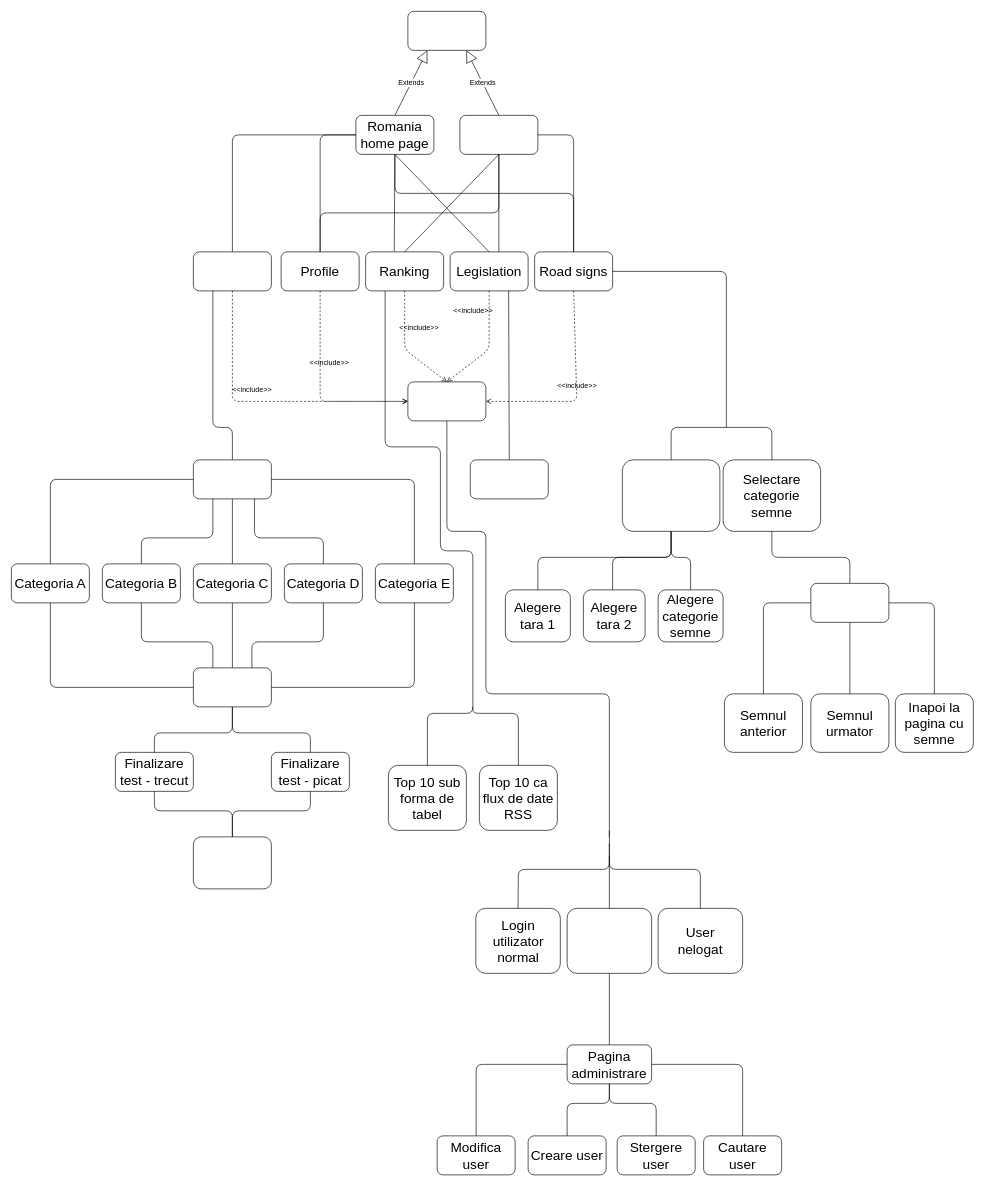
Image size: 985x1186. Some labels were removed from this diagram. Each missing label, with the centre of its shape:
Compara tari dupa semne de circulatie: pixel 671 495
Descarca testul in format CSV: pixel 232 862
England home page: pixel 498 134
Home page: pixel 446 30
Login: pixel 446 401
Login administrator: pixel 609 940
Selectare capitol: pixel 509 479
Selectare categorie: pixel 232 479
Test page: pixel 232 687
Tests: pixel 232 271
Vizualizare semn: pixel 849 602
